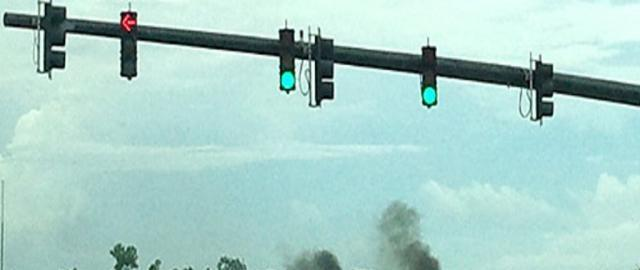green_light: (279, 29, 295, 90), (422, 46, 437, 105)
red_light: (120, 11, 137, 76)
